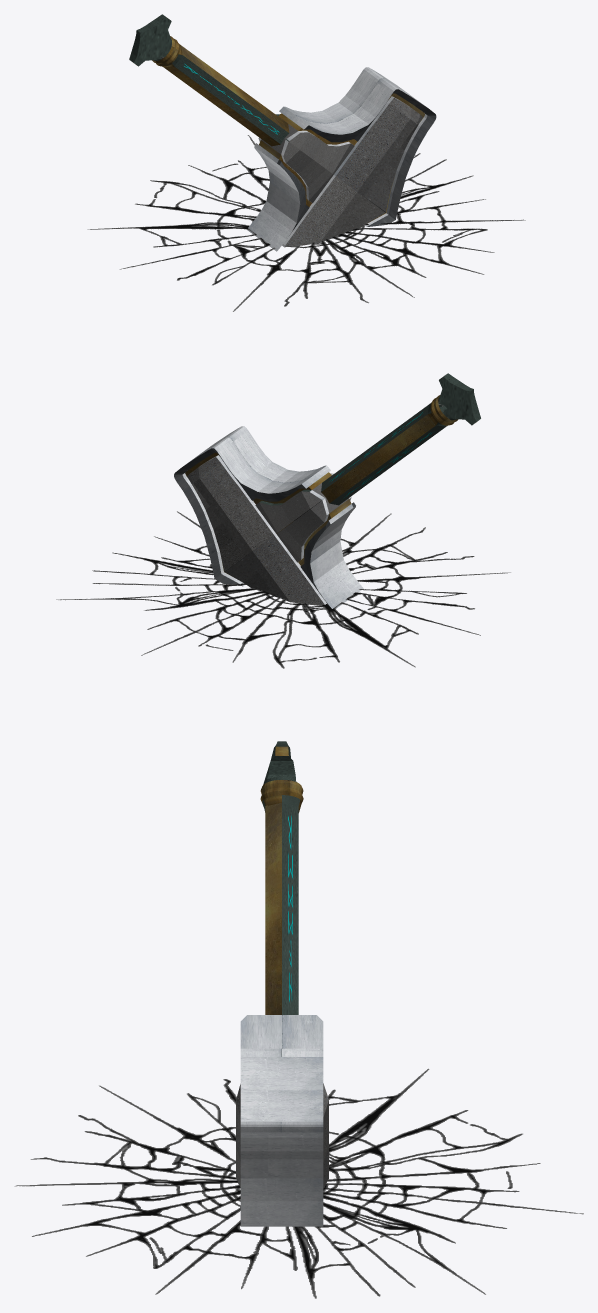
Rendered from WorldItem_Mjolnir.fbx.
3 views of the same model, one above another, from view 1: azimuth 30°, elevation 25°; view 2: azimuth 150°, elevation 25°; view 3: azimuth 270°, elevation 25° (orthographic). The views are drawn at different scales.
Visible parts, largest first — view 1: ZomboidMjolnir; view 2: ZomboidMjolnir; view 3: ZomboidMjolnir.
Boxes of the visible parts, x1,y1,x2,y2 form: ZomboidMjolnir: [87, 14, 525, 311]; ZomboidMjolnir: [56, 373, 510, 668]; ZomboidMjolnir: [14, 741, 583, 1298].
Bounding box in the file's own units: 0.5112 × 0.3377 × 0.5112.
